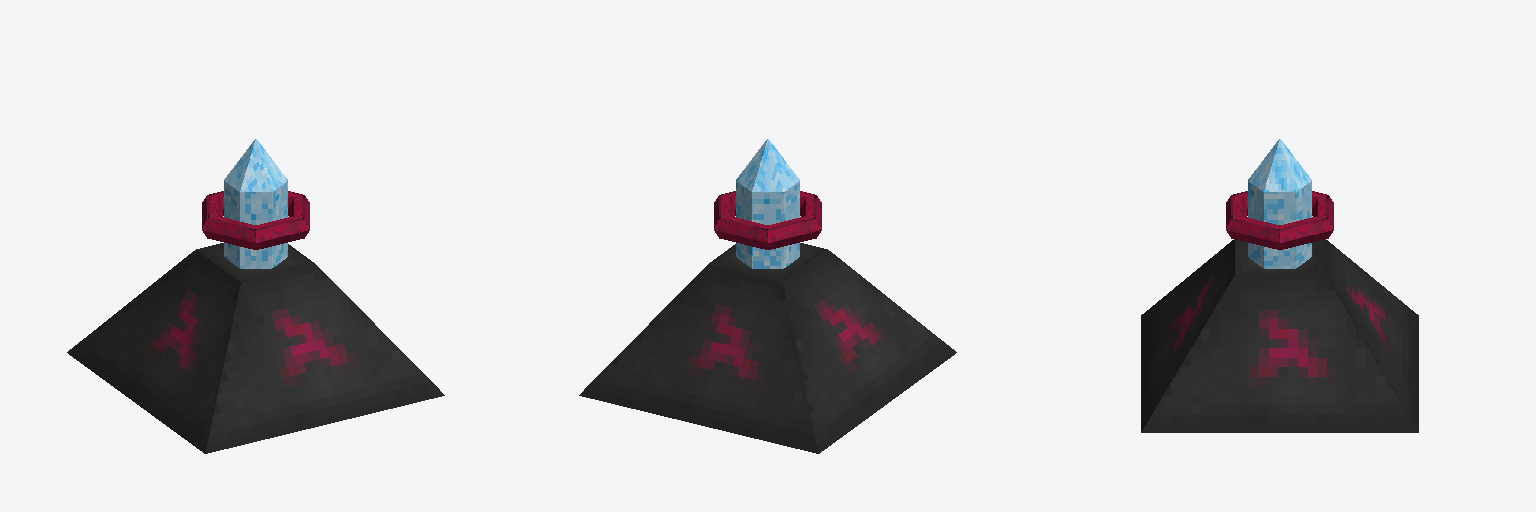
3 renders of one model, left to right at view 1: azimuth 30°, elevation 25°; view 2: azimuth 150°, elevation 25°; view 3: azimuth 270°, elevation 25°, orthographic.
Visible parts, largest first — view 1: essenceNode_Torus.001; view 2: essenceNode_Torus.001; view 3: essenceNode_Torus.001.
Part boxes in pixels (bbox=[...]): essenceNode_Torus.001: bbox=[67, 139, 444, 453]; essenceNode_Torus.001: bbox=[579, 139, 956, 453]; essenceNode_Torus.001: bbox=[1141, 139, 1418, 432].
Bounding box in the file's own units: 0.5898 × 0.5542 × 0.5898.
Materials: 2 (1 with a texture image).